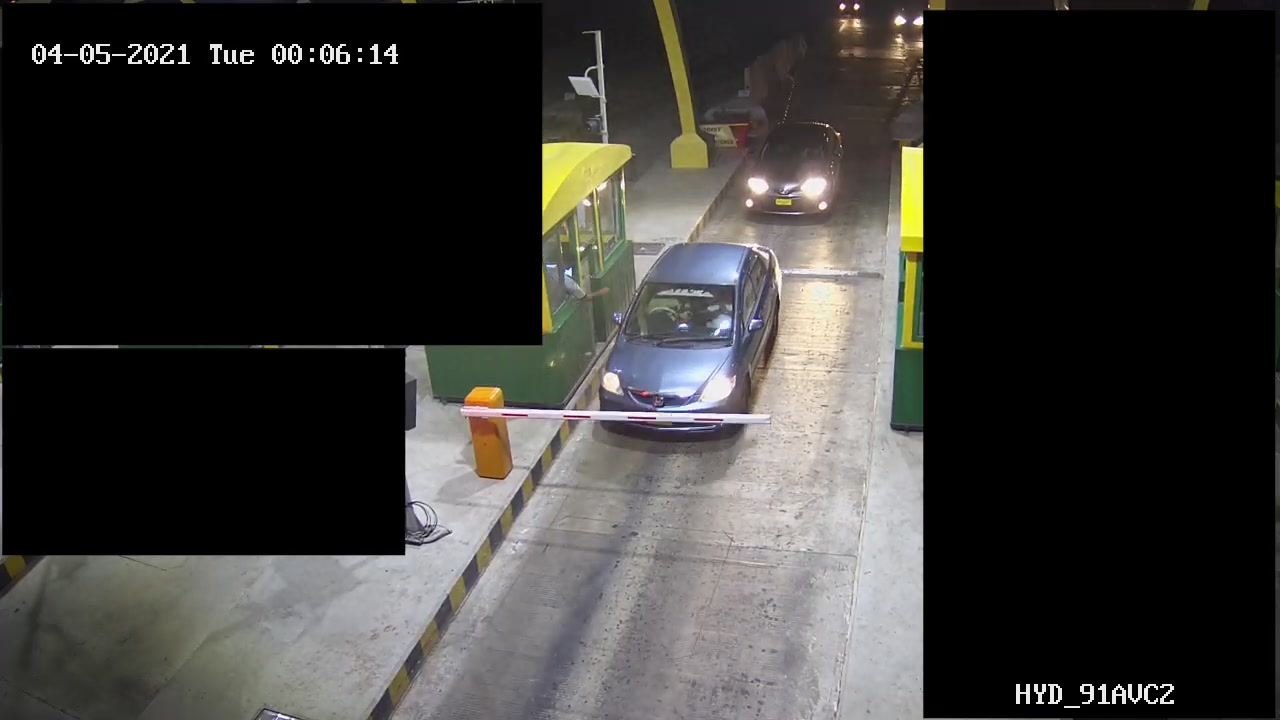F1: (589, 232, 803, 446), (737, 119, 848, 221)
